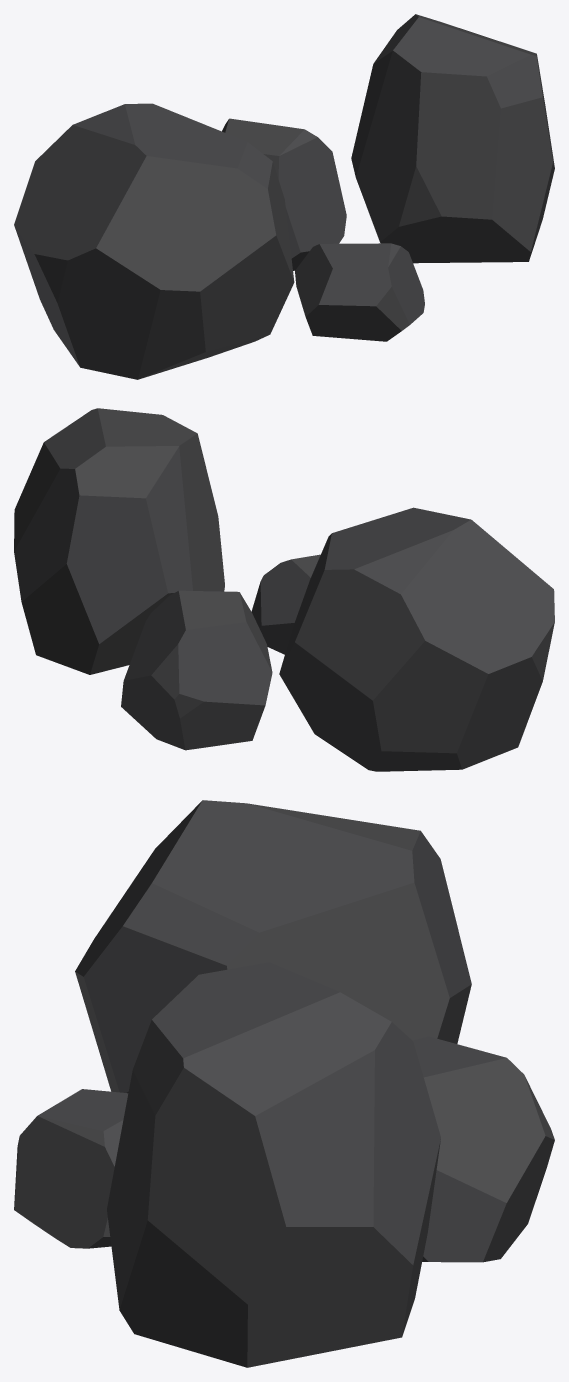
Rendered from Rock_Big.fbx.
The picture shows the model from 3 angles, top to bottom: view 1: azimuth 30°, elevation 25°; view 2: azimuth 150°, elevation 25°; view 3: azimuth 270°, elevation 25°; orthographic projection. The views are drawn at different scales.
Parts seen in each view (by area): view 1: rockbig; view 2: rockbig; view 3: rockbig.
Boxes of the visible parts, <box> form: rockbig: <box>14,14,554,379</box>; rockbig: <box>14,408,554,771</box>; rockbig: <box>14,800,554,1367</box>.
Size of the model in its own units: 1.31 by 0.593 by 0.794.
